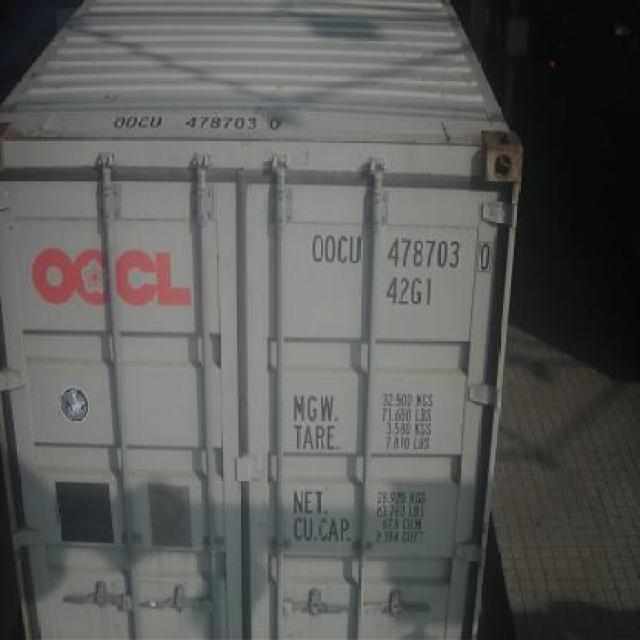ISO: (383, 275, 431, 306)
container_number: (310, 238, 488, 270)
